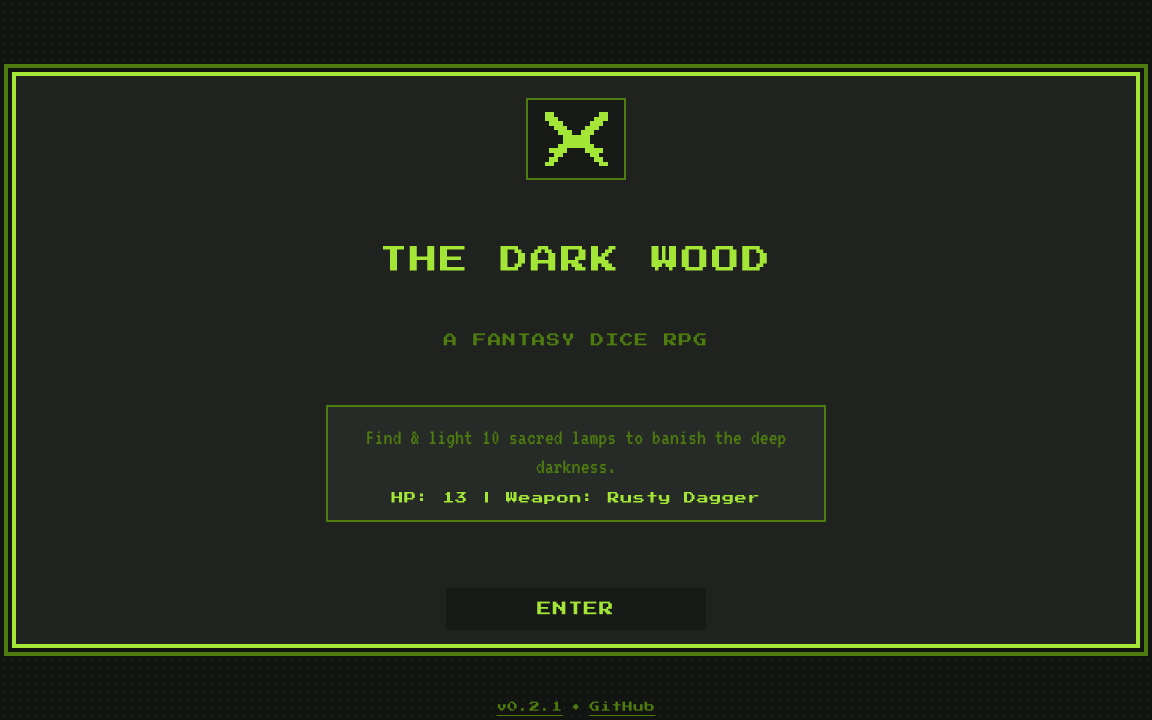
Test: App - Screen Flows & Interactive UI › supports LEAVE CHEST button and keyboard shortcuts (Enter to advance, F to flee)
This screenshot has width=1152, height=720.
Expected: the heading "THE DARK WOOD" is shown, left=379, top=246, right=772, bottom=274
Step 1. Press Enter
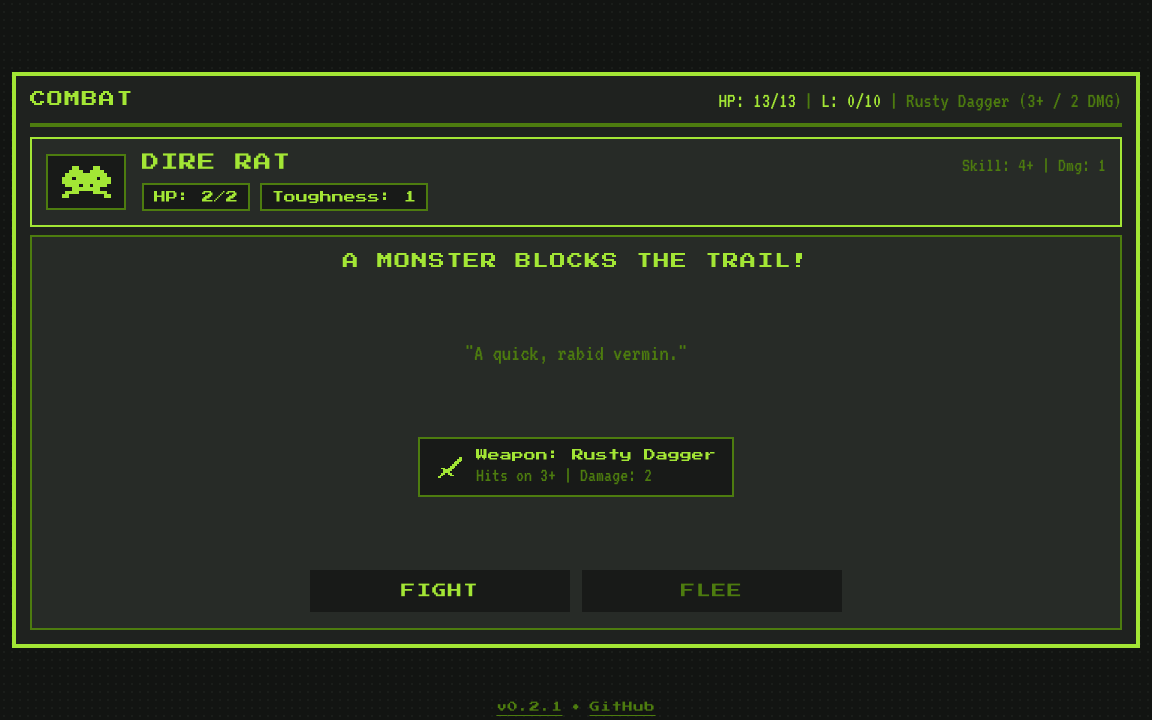
Result: the heading "Dire Rat" is shown at left=142, top=153, right=291, bottom=171
Step 2. Type keys "f"
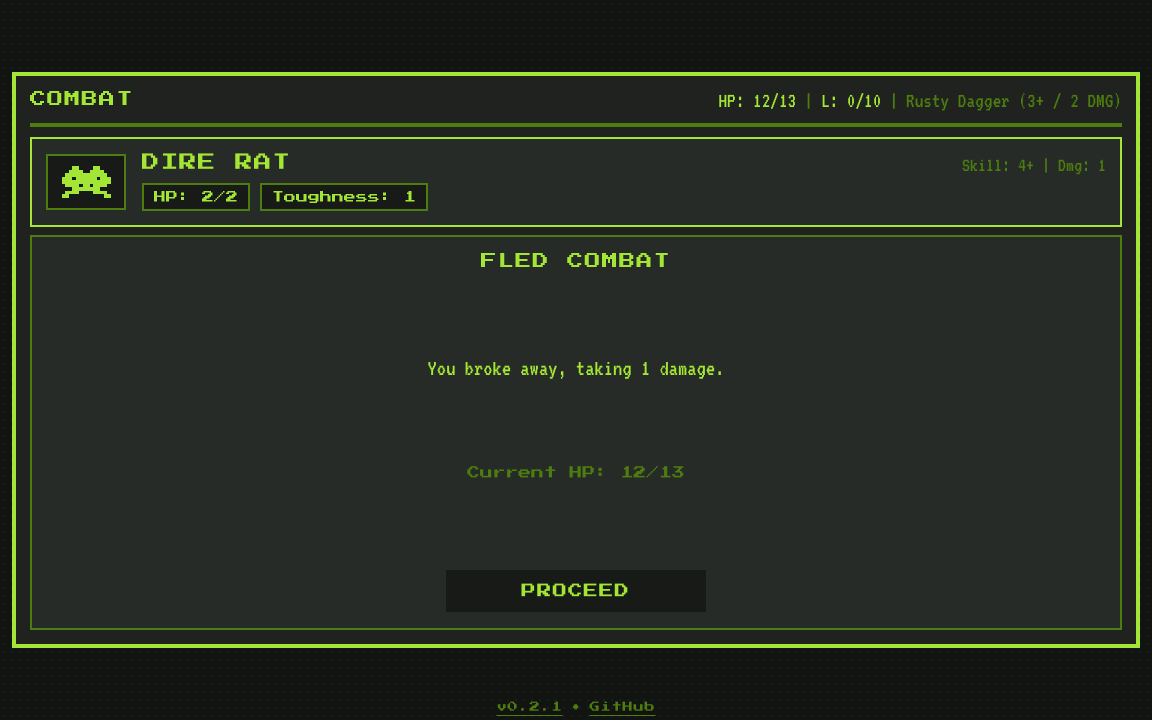
Result: the heading "FLED COMBAT" is shown at left=481, top=253, right=671, bottom=269
Step 3. Type keys " "
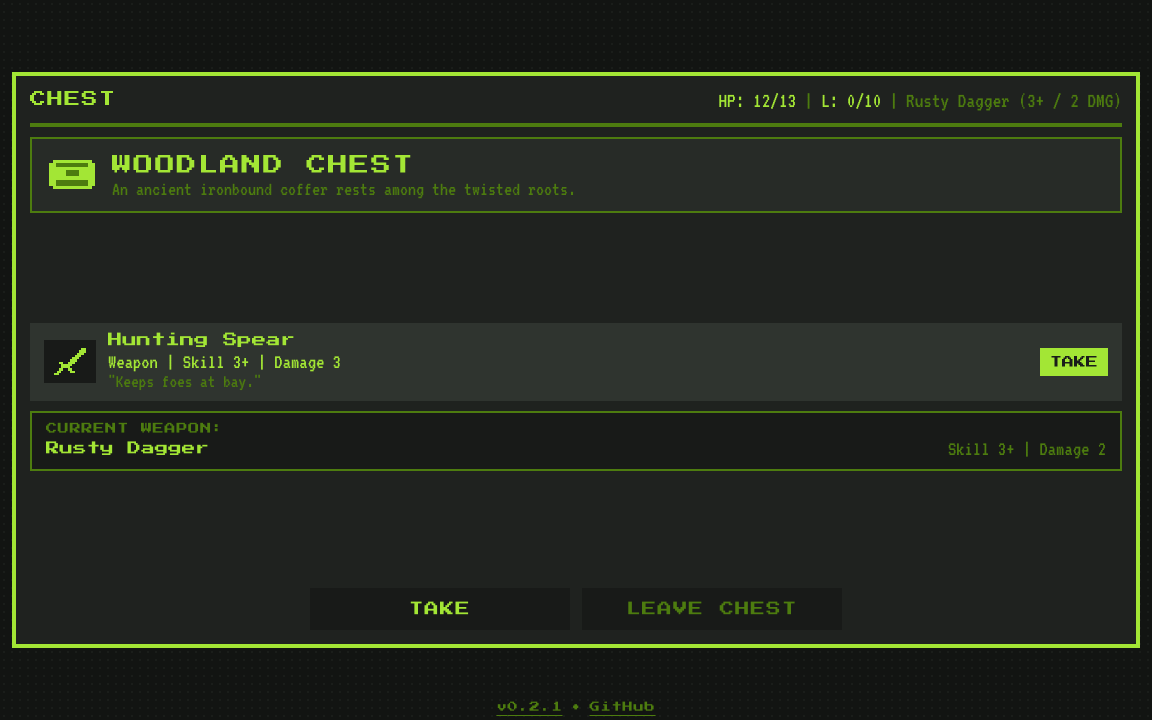
Result: the heading "WOODLAND CHEST" is shown at left=112, top=155, right=414, bottom=175
Result: the text "An ancient ironbound coffer rests among the twisted roots." is shown at left=112, top=179, right=576, bottom=199
Result: the text "Hunting Spear" is shown at left=108, top=332, right=295, bottom=346
Step 4. Click the button "LEAVE CHEST" → (712,609), box left=582, top=588, right=842, bottom=630
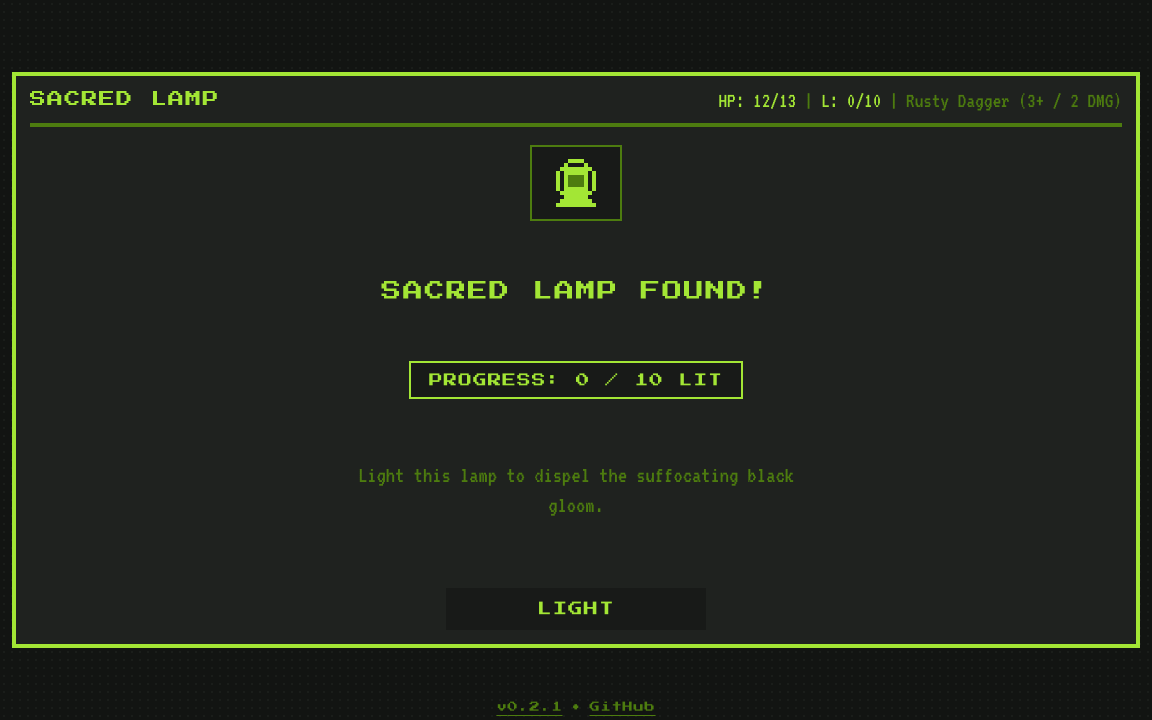
Result: the heading "SACRED LAMP FOUND!" is shown at left=382, top=281, right=770, bottom=301
